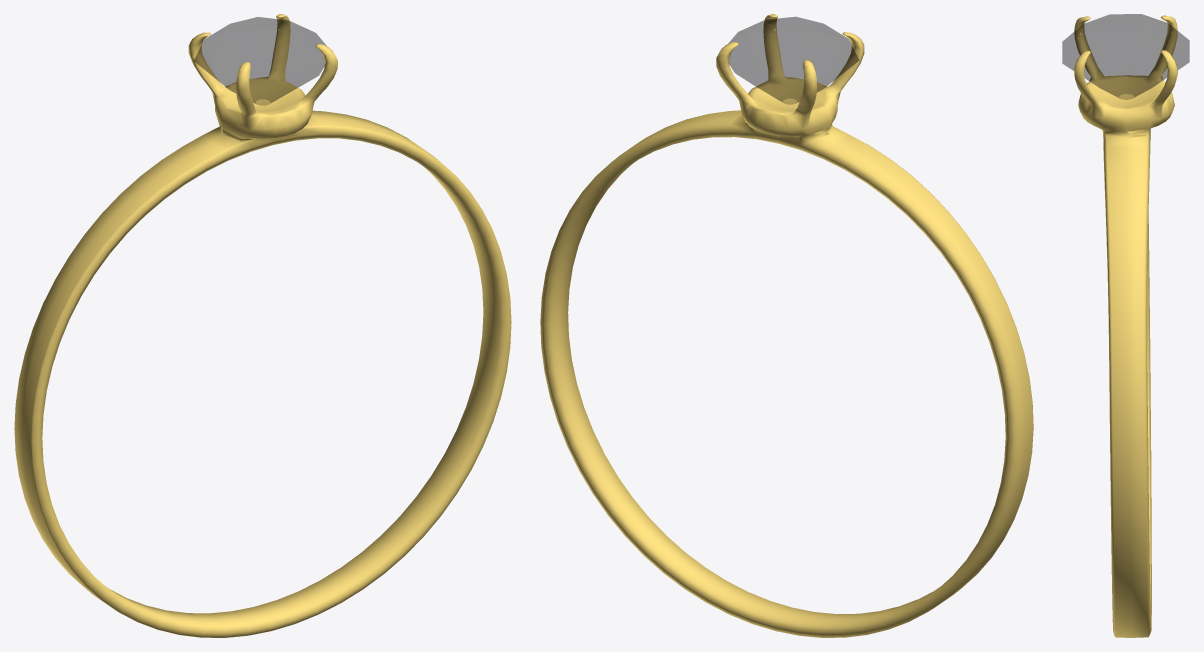
File: the_ring_1_carat_new.glb
The picture shows the model from 3 angles, left to right: view 1: azimuth 30°, elevation 25°; view 2: azimuth 150°, elevation 25°; view 3: azimuth 270°, elevation 25°; orthographic projection. The views are drawn at different scales.
Visible parts, largest first — view 1: Ring_2; view 2: Ring_2; view 3: Ring_2.
Part boxes in pixels (x1,y1,x2,y2): Ring_2: [14, 14, 511, 637]; Ring_2: [540, 14, 1033, 637]; Ring_2: [1062, 14, 1189, 637].
Size of the model in its own units: 0.5382 by 0.6354 by 0.1258.
